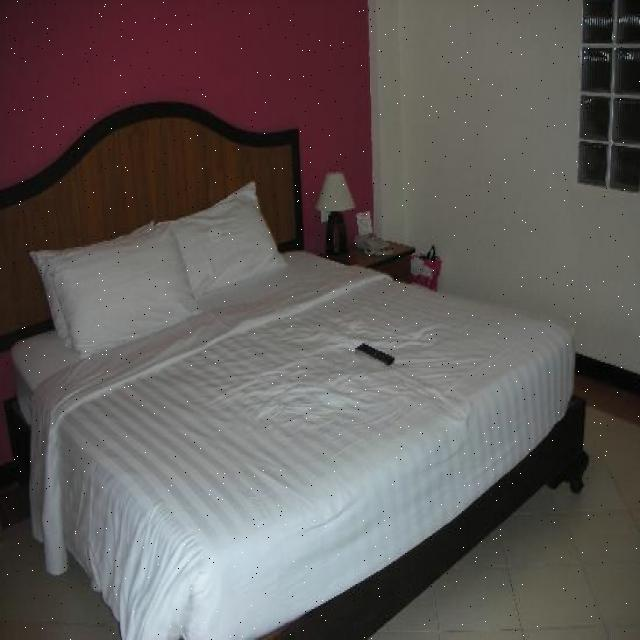bed: (0, 178, 577, 607)
